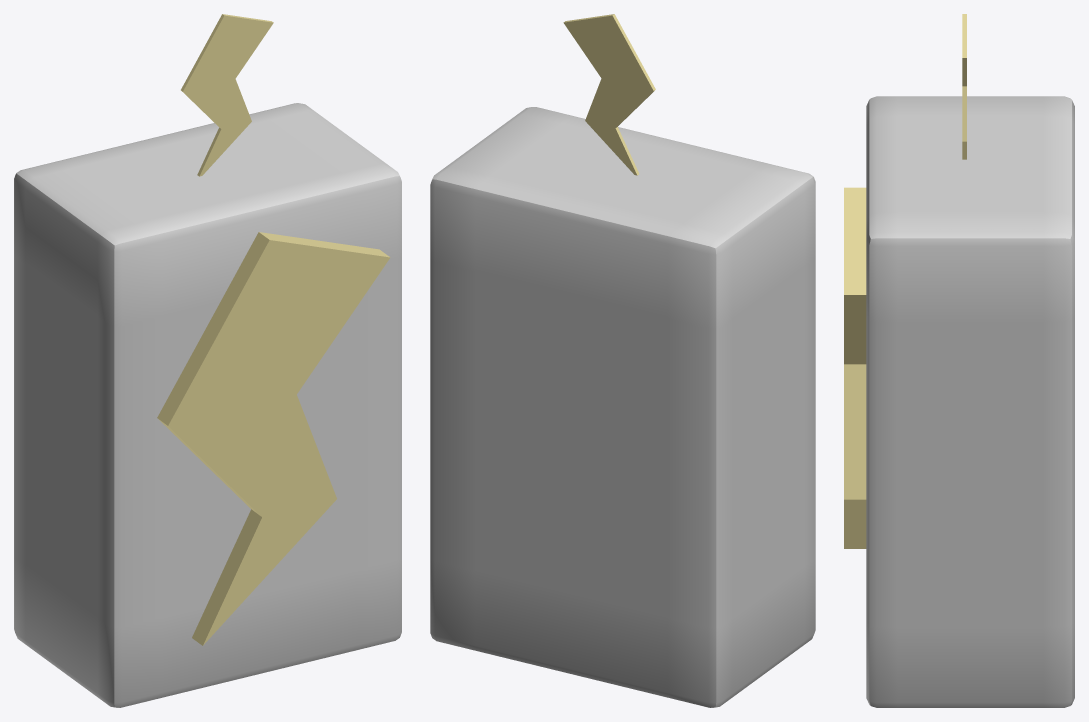
File: ChargingStation.fbx
3 views of the same model, side by side, from view 1: azimuth 30°, elevation 25°; view 2: azimuth 150°, elevation 25°; view 3: azimuth 270°, elevation 25° (orthographic).
Parts seen in each view (by area): view 1: polySurface1; view 2: polySurface1; view 3: polySurface1.
Part boxes in pixels (x1=…): polySurface1: x1=14, y1=14, x2=401, y2=707; polySurface1: x1=430, y1=14, x2=815, y2=707; polySurface1: x1=844, y1=14, x2=1074, y2=707.
Size of the model in its own units: 1.64 by 3.34 by 1.11.
